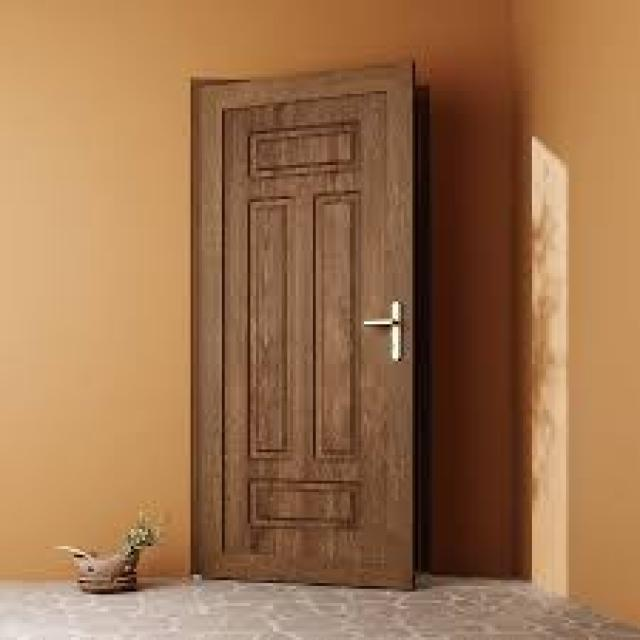door: (189, 59, 420, 590)
